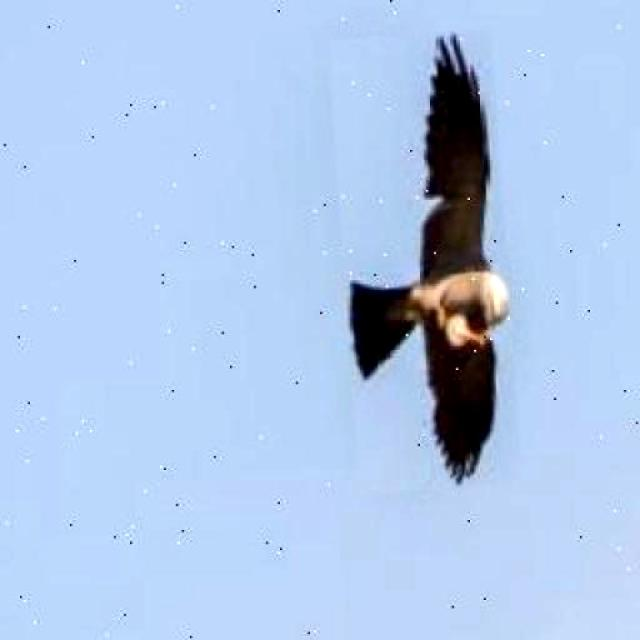airplane: (328, 29, 521, 495)
